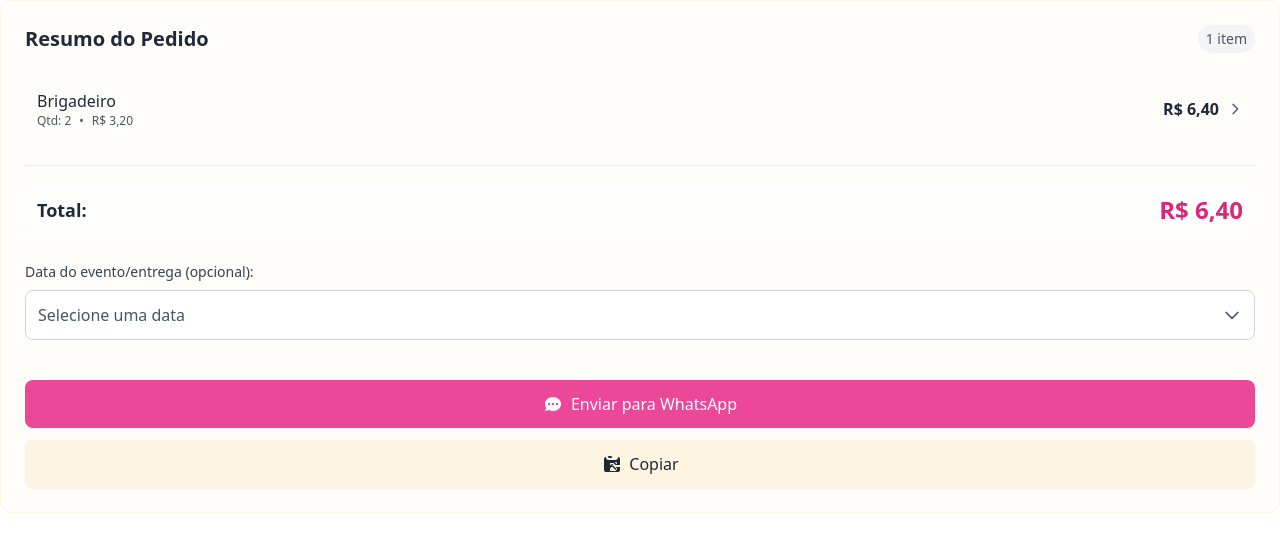
it: QuoteSummary › cancela edição ao clicar em Cancelar
Click the text "Brigadeiro" at {"x": 76, "y": 101}, box 37,90 -> 116,112
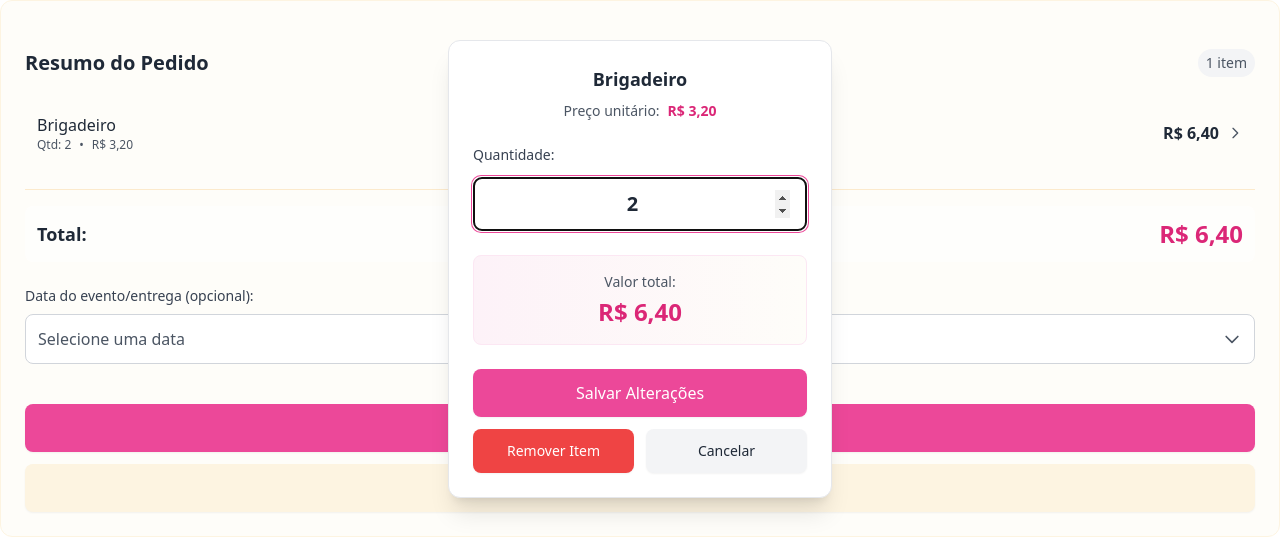
Click the button "Cancelar" at {"x": 726, "y": 450}, box 646,428 -> 807,472
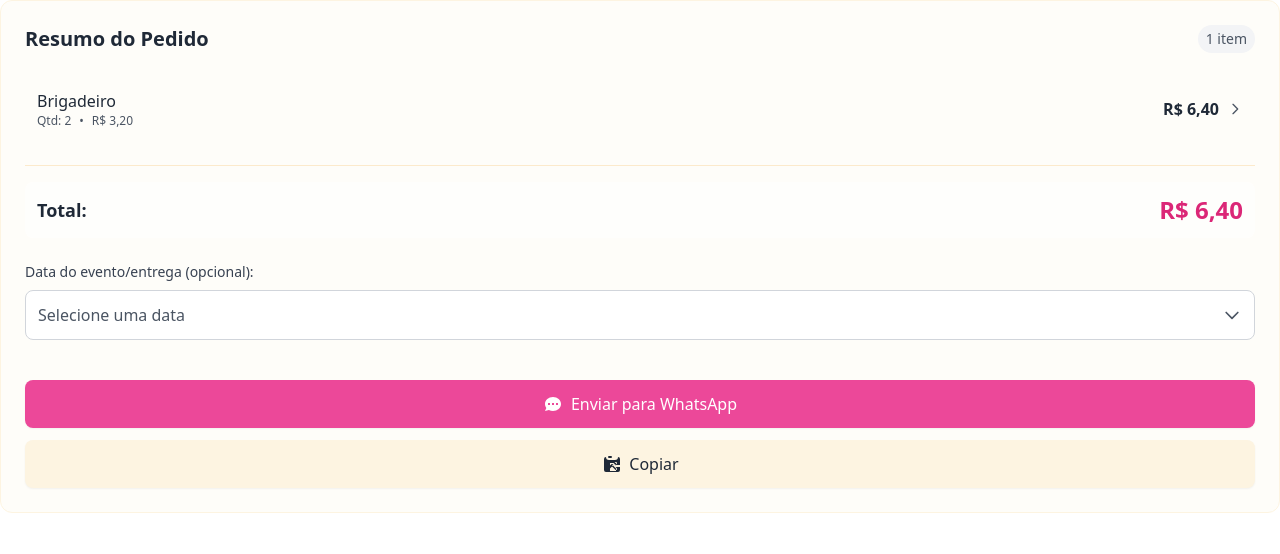
Result: the button "Salvar Alterações" is gone
